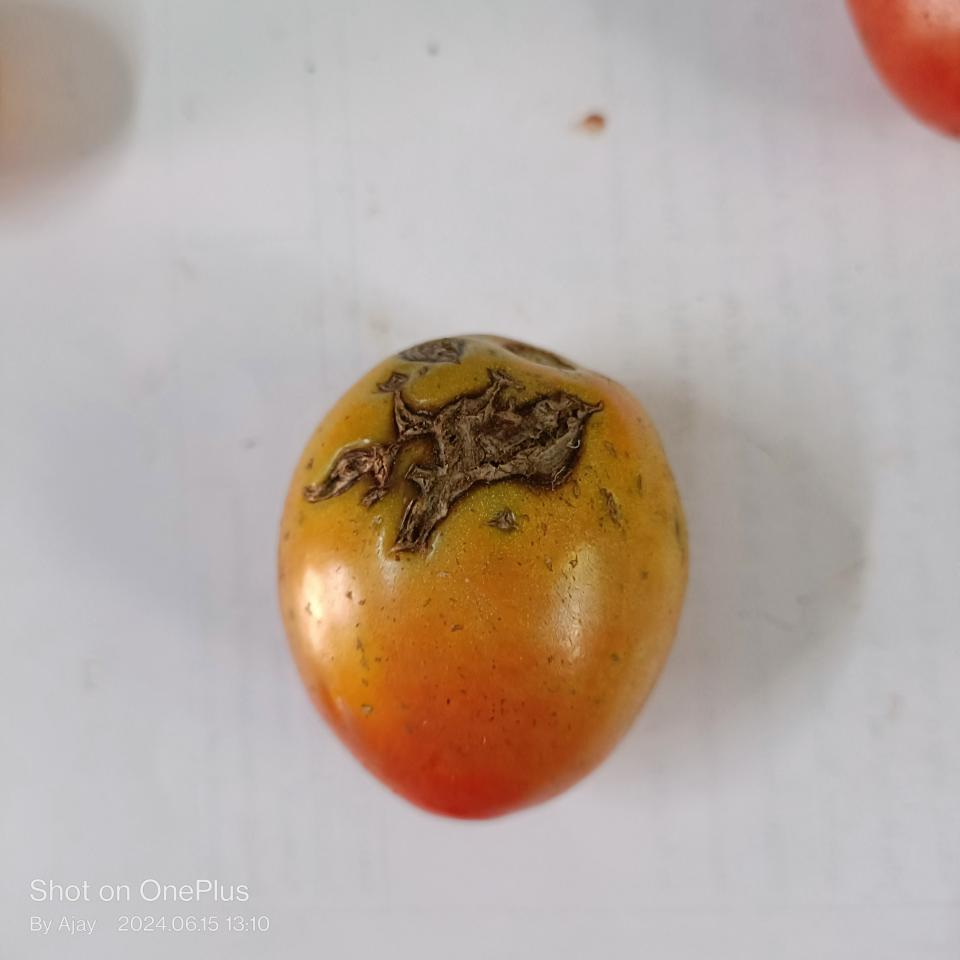Bacterial_Spot: (303, 372, 597, 561)
